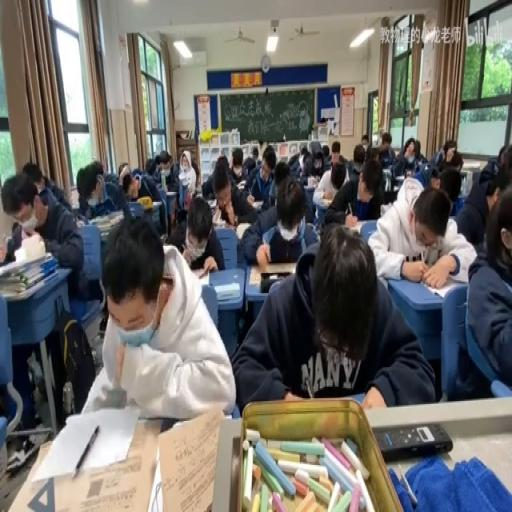calculator: (22, 410, 164, 509), (156, 404, 226, 512), (250, 254, 298, 286), (0, 250, 49, 279), (422, 277, 460, 299), (214, 282, 240, 300), (345, 218, 366, 234), (194, 267, 210, 286), (235, 222, 251, 240), (68, 184, 80, 208), (302, 183, 317, 202), (314, 194, 331, 208), (382, 168, 392, 189), (380, 200, 393, 214), (212, 205, 222, 222), (178, 171, 192, 182), (205, 195, 217, 206), (74, 215, 86, 226), (252, 199, 263, 209), (235, 179, 246, 188), (150, 198, 162, 206), (395, 172, 405, 181)
paper: (233, 222, 428, 411), (82, 210, 234, 421), (2, 166, 87, 417), (366, 178, 478, 288), (240, 173, 315, 266), (173, 193, 224, 273), (323, 154, 381, 223), (80, 156, 138, 222), (201, 151, 236, 199), (38, 166, 72, 212), (390, 135, 422, 179), (150, 151, 182, 193), (489, 156, 512, 204), (435, 168, 461, 206), (435, 138, 462, 172), (166, 222, 186, 252), (22, 161, 43, 189), (272, 159, 290, 191), (296, 148, 312, 176), (330, 138, 346, 165), (167, 194, 178, 228), (189, 158, 199, 192), (230, 150, 244, 174), (352, 144, 365, 169), (262, 154, 276, 176), (331, 168, 345, 189), (497, 145, 509, 166), (378, 146, 390, 166), (118, 161, 130, 179), (310, 141, 322, 158), (368, 146, 379, 164), (381, 131, 392, 148), (144, 155, 154, 172), (415, 151, 427, 165), (244, 158, 254, 173), (154, 162, 164, 176), (216, 158, 226, 171), (299, 175, 310, 186), (322, 144, 330, 158), (251, 144, 259, 158), (132, 168, 142, 179), (361, 132, 368, 144)
person: (373, 422, 452, 461), (316, 222, 323, 237)
